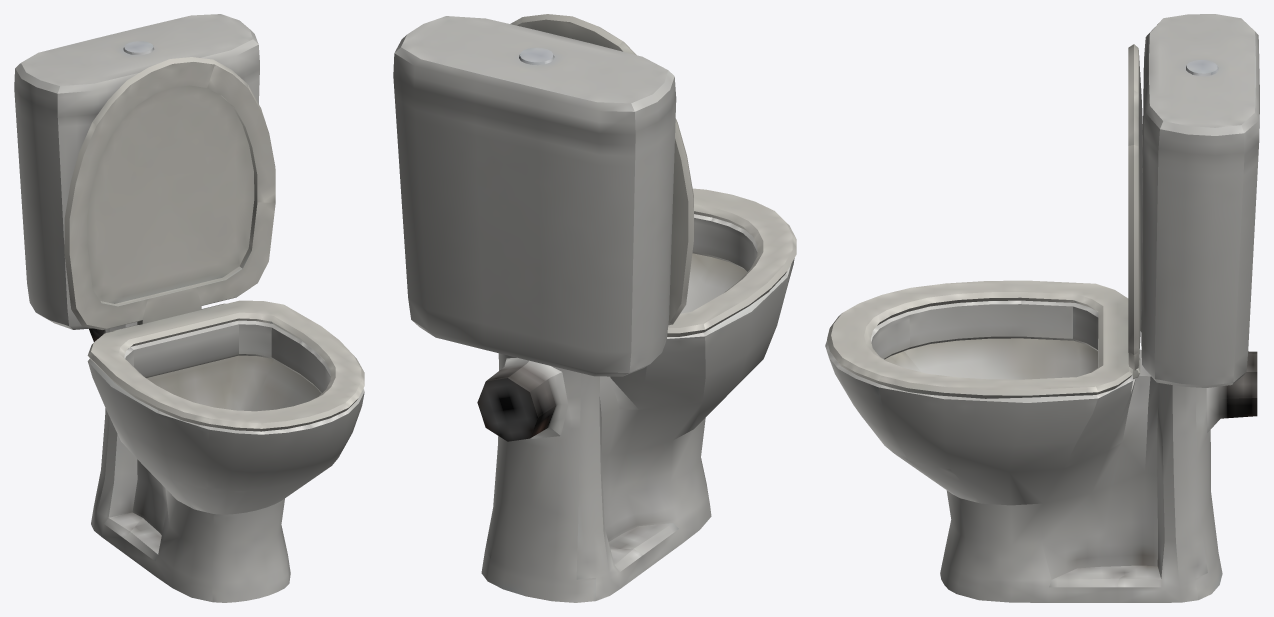
File: toilet_1.fbx
The picture shows the model from 3 angles, left to right: view 1: azimuth 30°, elevation 25°; view 2: azimuth 150°, elevation 25°; view 3: azimuth 270°, elevation 25°; orthographic projection. The views are drawn at different scales.
Visible parts, largest first — view 1: toilet.001; view 2: toilet.001; view 3: toilet.001.
Part boxes in pixels (left/top/right/bottom): toilet.001: left=14, top=14, right=364, bottom=602; toilet.001: left=393, top=14, right=796, bottom=602; toilet.001: left=825, top=14, right=1259, bottom=602.
Bounding box in the file's own units: 0.5042 × 1.02 × 0.7752.
